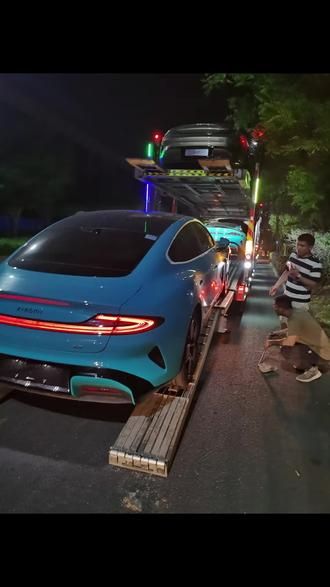su7: (0, 203, 238, 409)
